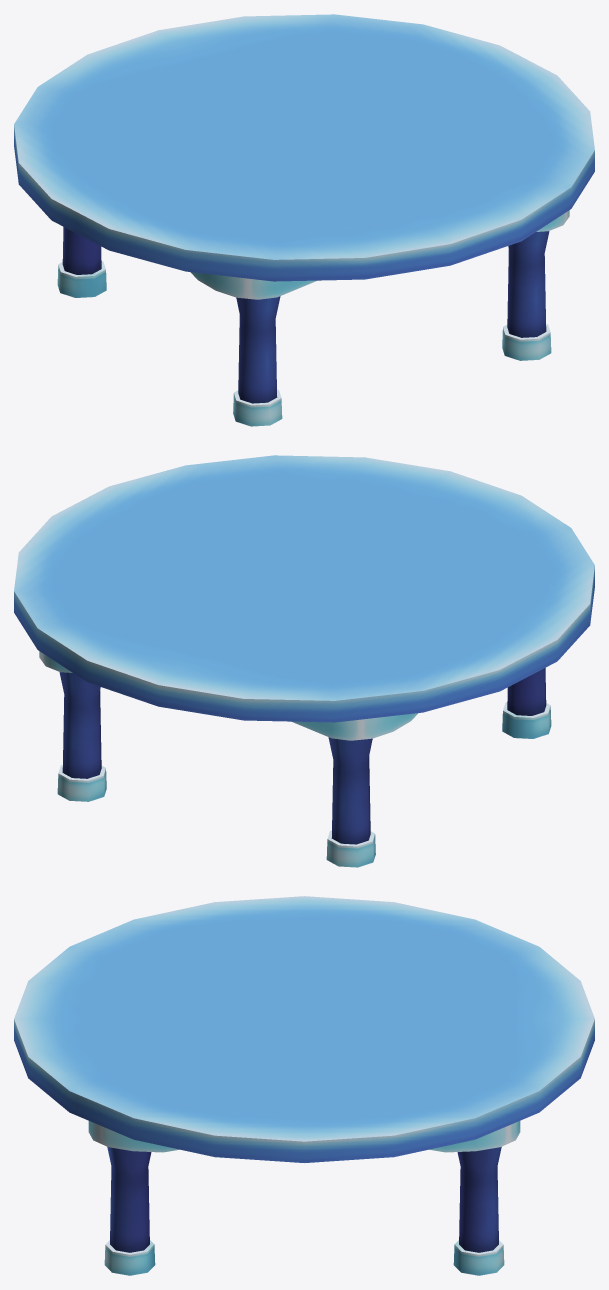
The model's file is BlueRoundTable_HD.fbx.
3 renders of one model, top to bottom at view 1: azimuth 30°, elevation 25°; view 2: azimuth 150°, elevation 25°; view 3: azimuth 270°, elevation 25°, orthographic.
Visible parts, largest first — view 1: BlueRoundTable; view 2: BlueRoundTable; view 3: BlueRoundTable.
Boxes of the visible parts, x1,y1,x2,y2 form: BlueRoundTable: (14,14,594,426); BlueRoundTable: (14,455,594,867); BlueRoundTable: (14,896,594,1275).
Size of the model in its own units: 1.76 by 0.6048 by 1.76.
